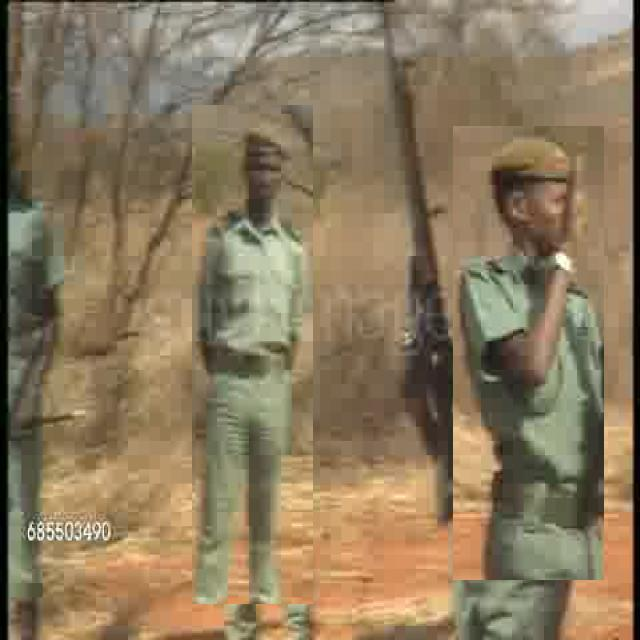poacher: (453, 126, 604, 580), (192, 105, 313, 604)
weapon: (377, 2, 468, 516)
